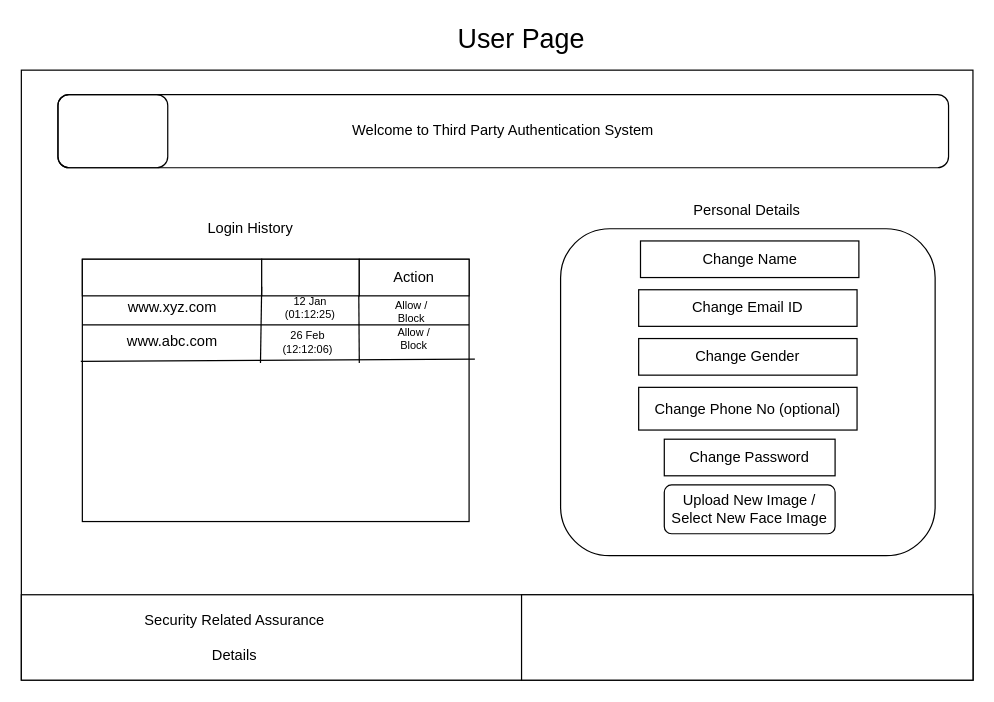
This 994x702 diagram has some shape labels left out. Each missing label, with the centre of its shape:
"logo" goes at point 112,130.
"Team Name: Creators Name" goes at point 746,637.
"Time" goes at point 309,277.
"Website Name" goes at point 171,277.
